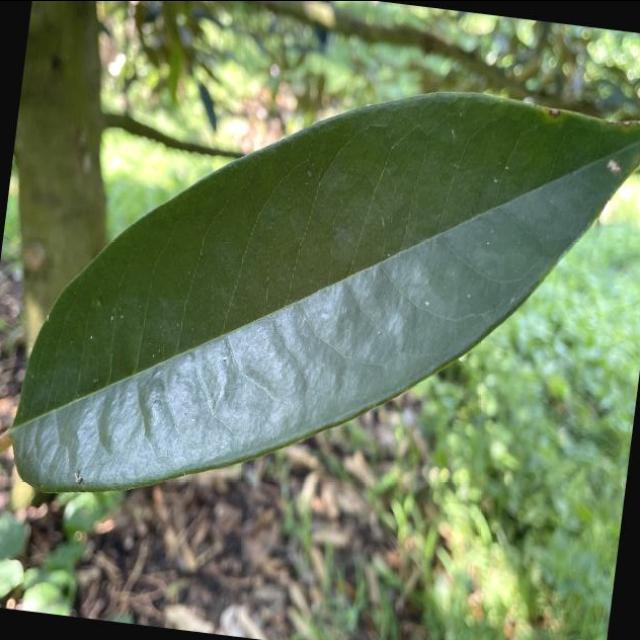No Disease: (0, 24, 640, 570)
